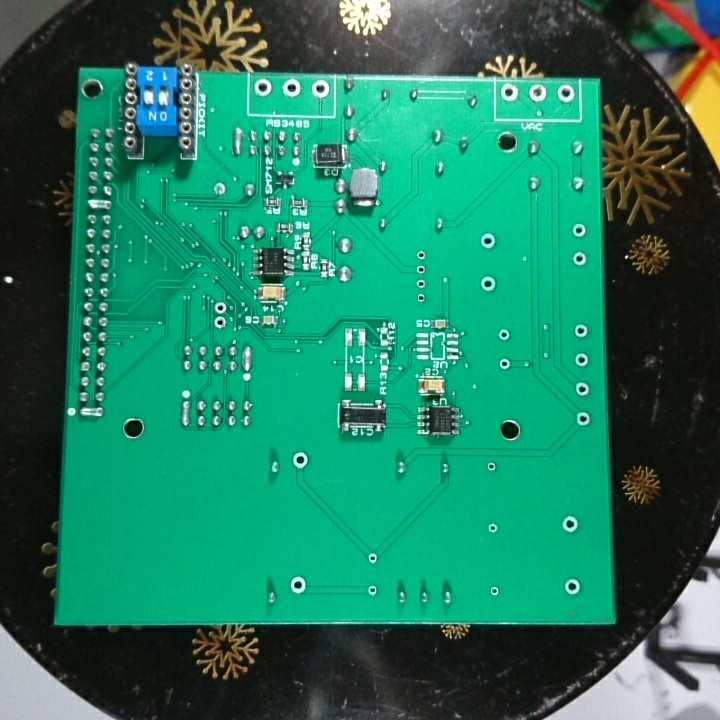F: (287, 574, 310, 597), (289, 449, 312, 472), (559, 512, 581, 536), (279, 78, 304, 99), (499, 81, 522, 103), (573, 377, 595, 400), (310, 78, 332, 100), (561, 576, 583, 598), (527, 82, 548, 104), (477, 229, 498, 251), (573, 407, 593, 430), (555, 83, 576, 104), (252, 77, 273, 98), (569, 249, 589, 270), (479, 273, 498, 295), (570, 220, 588, 243), (573, 320, 591, 342), (210, 179, 229, 198), (572, 351, 590, 371), (496, 354, 513, 374), (212, 315, 230, 332), (496, 325, 512, 344), (364, 583, 381, 600), (484, 520, 501, 536), (364, 551, 381, 567), (213, 298, 228, 315), (483, 459, 498, 475), (487, 584, 502, 599), (413, 248, 427, 263), (413, 277, 427, 292), (415, 290, 429, 305), (414, 262, 427, 276)
P: (76, 404, 108, 420), (84, 196, 115, 212), (239, 343, 256, 370), (231, 126, 244, 157), (181, 398, 190, 430)
